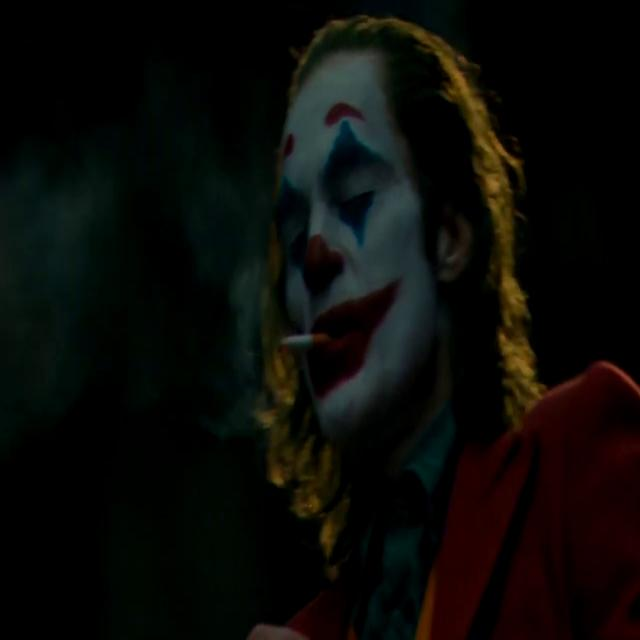Smooking: (276, 323, 326, 354)
